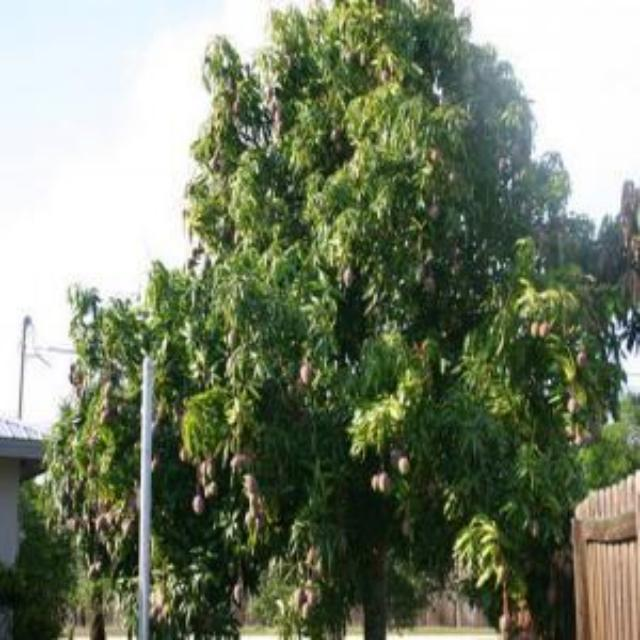tree: (186, 13, 596, 621)
